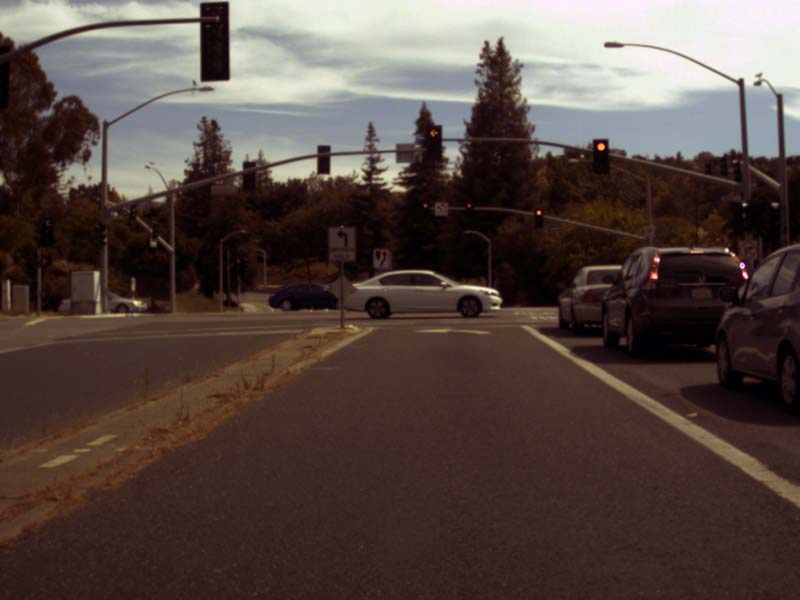Red: (592, 140, 608, 174), (426, 125, 441, 160), (534, 208, 542, 226), (422, 201, 428, 218), (466, 201, 472, 217)
